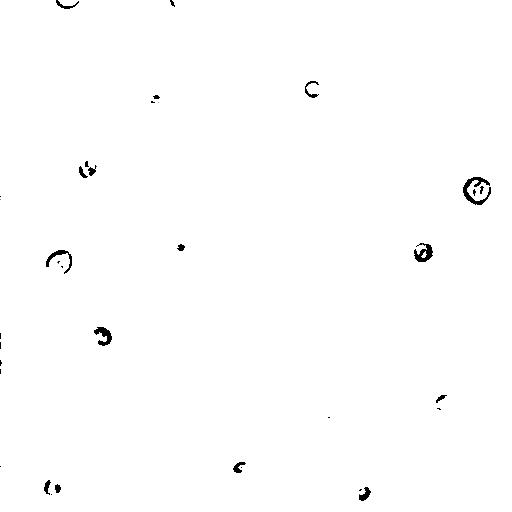micro-algae: (369, 63, 420, 117), (161, 265, 207, 310), (34, 472, 69, 505), (463, 175, 493, 207), (44, 250, 73, 277), (163, 232, 191, 257), (1, 337, 18, 371), (412, 241, 435, 265), (87, 325, 113, 346), (78, 156, 98, 179), (303, 78, 322, 100), (435, 393, 455, 412), (232, 460, 251, 475), (54, 0, 81, 9), (359, 486, 373, 502), (169, 0, 187, 8)
